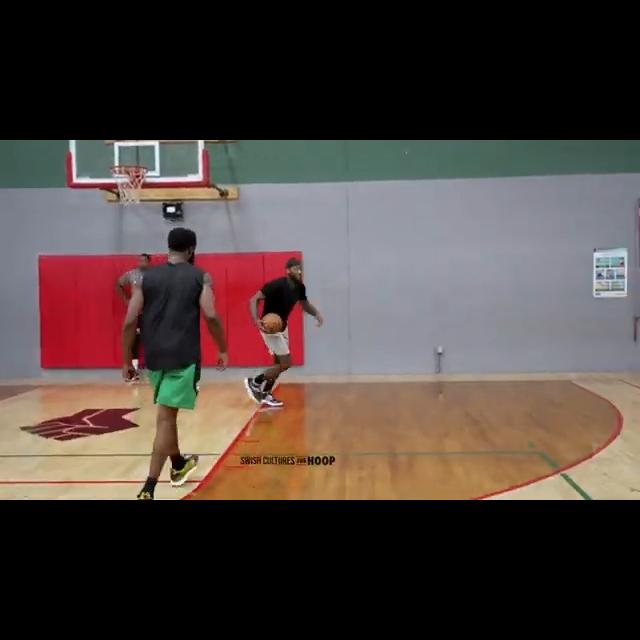basketball: (261, 313, 283, 335)
hoop: (109, 164, 149, 211)
